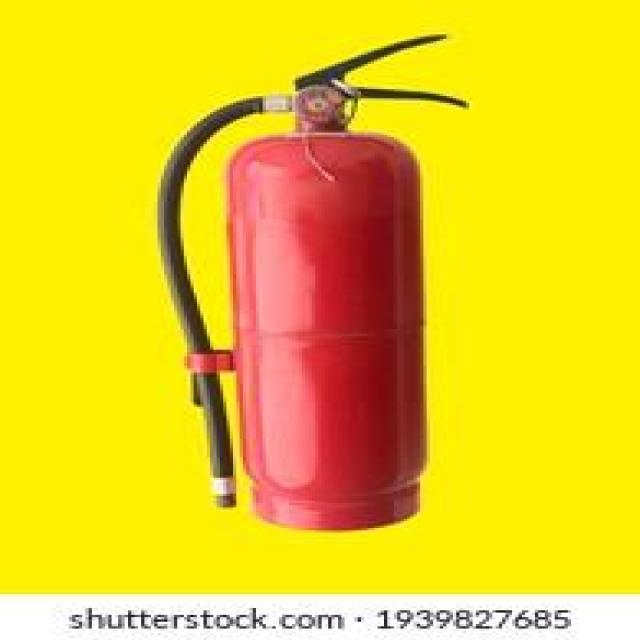fire_extinguisher: (146, 25, 474, 533)
